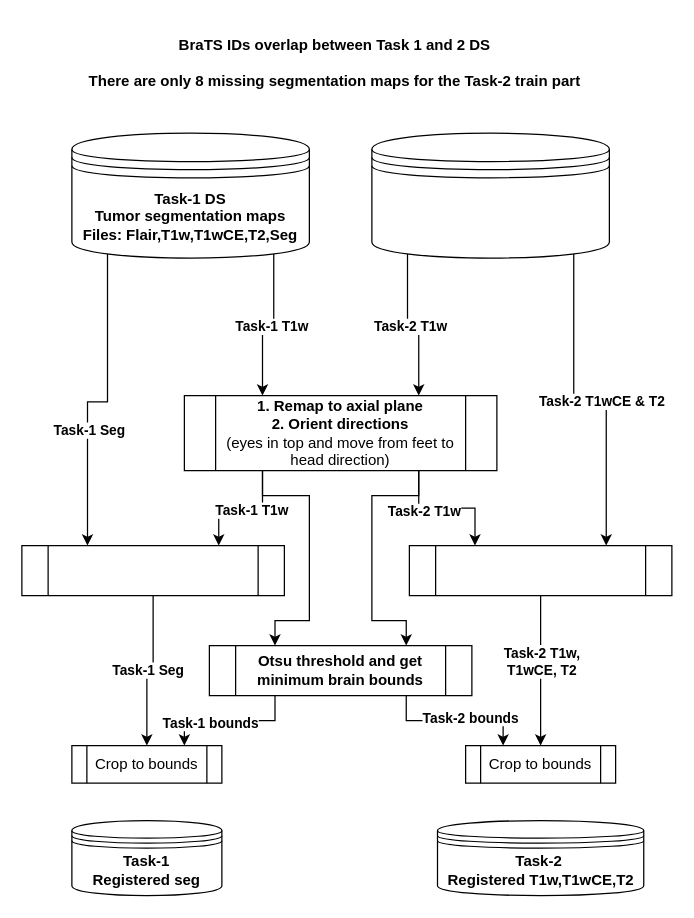
The diagram is 694 pixels wide and 918 high, and some of its shapes have lost their labels. Each missing label, with the box of its shape:
Remap Seg to T1w: (21, 544, 284, 596)
Remap T1wCE and T2 to T1w: (408, 544, 672, 596)
Task-2 DS MGMT values Files: Flair,T1w,T1wCE,T2: (371, 132, 609, 258)
